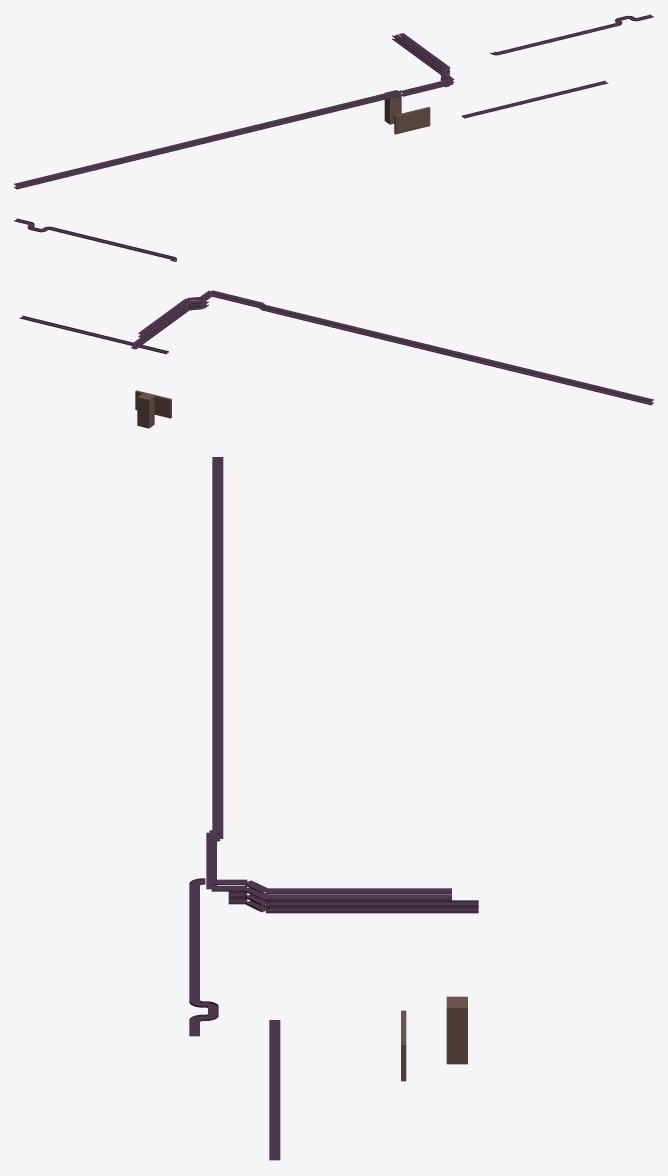
Rendered from GCC-AAV-13220-30(11).fbx.
3 renders of one model, top to bottom at view 1: azimuth 30°, elevation 25°; view 2: azimuth 150°, elevation 25°; view 3: azimuth 270°, elevation 25°, orthographic. The views are drawn at different scales.
Parts seen in each view (by area): view 1: BOX 1 of EQUIPMENT 39 of ZONE /13220-02-5200/EL/EQ/ER, BOX 2 of EQUIPMENT 38 of ZONE /13220-02-5200/EL/EQ/ER; view 2: BOX 2 of EQUIPMENT 38 of ZONE /13220-02-5200/EL/EQ/ER, BOX 1 of EQUIPMENT 39 of ZONE /13220-02-5200/EL/EQ/ER; view 3: BOX 2 of EQUIPMENT 38 of ZONE /13220-02-5200/EL/EQ/ER.
Boxes of the visible parts, box(x1,y1,x2,y2) form: BOX 1 of EQUIPMENT 39 of ZONE /13220-02-5200/EL/EQ/ER: box(394, 107, 430, 134); BOX 2 of EQUIPMENT 38 of ZONE /13220-02-5200/EL/EQ/ER: box(384, 90, 401, 124); BOX 2 of EQUIPMENT 38 of ZONE /13220-02-5200/EL/EQ/ER: box(137, 393, 154, 428); BOX 1 of EQUIPMENT 39 of ZONE /13220-02-5200/EL/EQ/ER: box(135, 390, 171, 418); BOX 2 of EQUIPMENT 38 of ZONE /13220-02-5200/EL/EQ/ER: box(446, 996, 467, 1064).
Bounding box in the file's own units: 2140 × 346 × 425.
